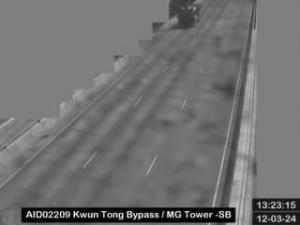truck: (178, 4, 200, 28)
